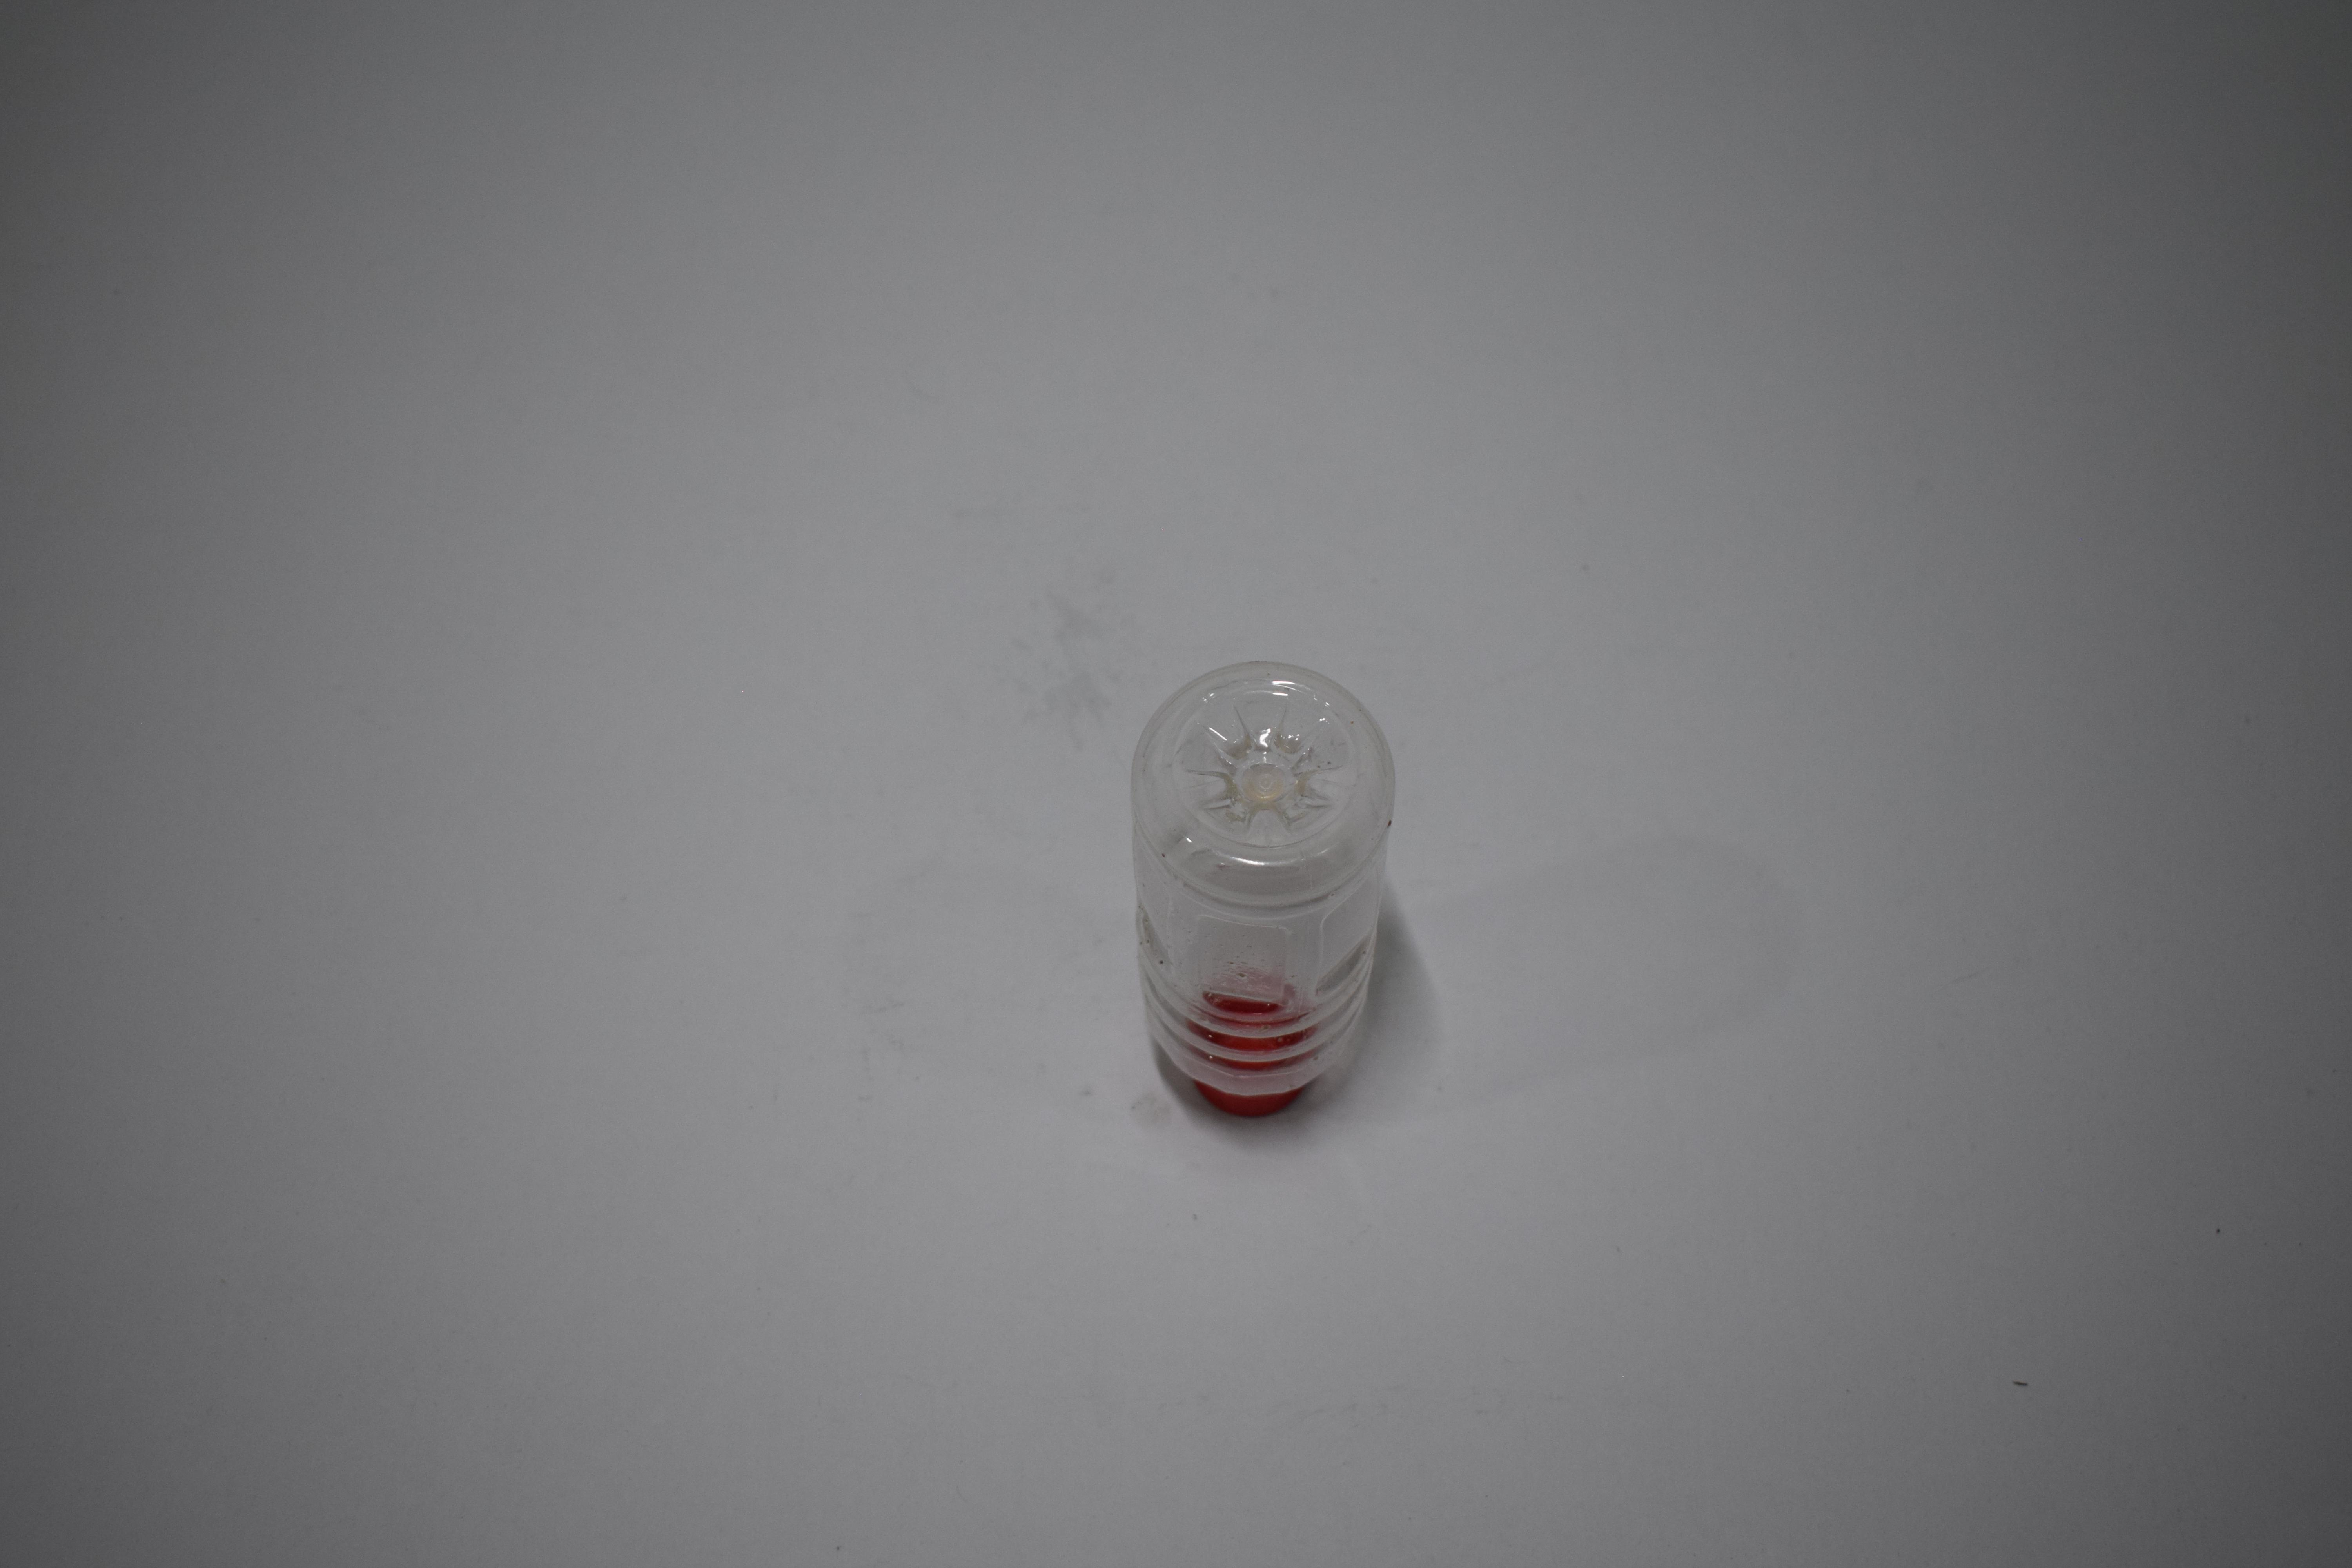bottle: (0, 0, 228, 336)
